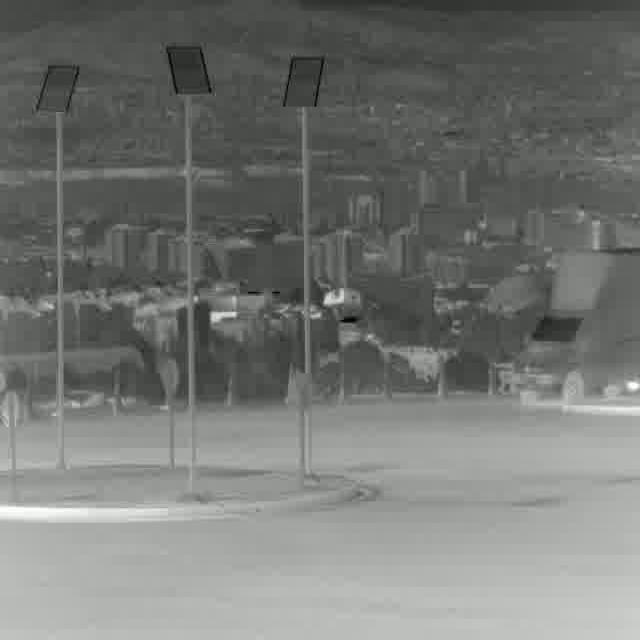Car: (516, 247, 640, 401)
